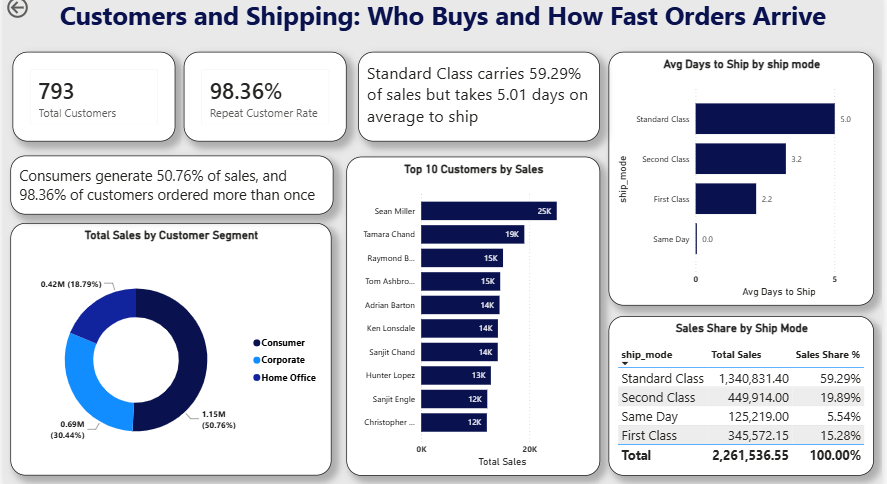

This screenshot's page, from the dashboard's own definition file:
{"tool":"powerbi","page":{"name":"3. Customers and Shipping","canvas":[1280,720],"ordinal":2},"visuals":[{"type":"textbox","box":[0,0,1279.6,84.3],"z":0},{"type":"actionButton","box":[0,0,100,40],"z":5000},{"type":"donutChart","title":"Total Sales by Customer Segment","fields":{"Category":["superstore_clean.segment"],"Y":["_Measures.Total Sales"]},"box":[9.4,333.9,468.1,368.3],"z":5001},{"type":"cardVisual","fields":{"Data":["_Measures.Total Customers"]},"box":[12.5,84.3,237.2,131.1],"z":5002},{"type":"cardVisual","fields":{"Data":["_Measures.Repeat Customer Rate"]},"box":[262.2,84.3,237.2,131.1],"z":5003},{"type":"textbox","box":[9.4,235.6,471.3,85.8],"z":5004},{"type":"barChart","title":"Top 10 Customers by Sales","fields":{"Category":["superstore_clean.customer_name"],"Y":["_Measures.Total Sales"]},"box":[499.3,237.2,369.8,465],"z":5005},{"type":"clusteredBarChart","title":"Avg Days to Ship by ship mode","fields":{"Category":["superstore_clean.ship_mode"],"Y":["_Measures.Avg Days to Ship"]},"box":[881.7,84.3,387,369.8],"z":5006},{"type":"tableEx","title":"Sales Share by Ship Mode","fields":{"Values":["superstore_clean.ship_mode","_Measures.Total Sales","_Measures.Sales Share %"]},"box":[881.7,469.7,387,232.5],"z":5007},{"type":"textbox","box":[516.5,84.3,352.7,131.1],"z":5008}]}

Visuals, with their boxes in screenshot pixels (x1, y1, x2, y2):
textbox: 0,0,881,51
actionButton: 0,0,69,21
"Total Sales by Customer Segment" donutChart: 6,223,329,477
cardVisual - _Measures.Total Customers: 9,51,172,141
cardVisual - _Measures.Repeat Customer Rate: 181,51,344,141
textbox: 6,155,331,214
"Top 10 Customers by Sales" barChart: 344,156,599,477
"Avg Days to Ship by ship mode" clusteredBarChart: 607,51,874,306
"Sales Share by Ship Mode" tableEx: 607,317,874,477
textbox: 356,51,599,141
